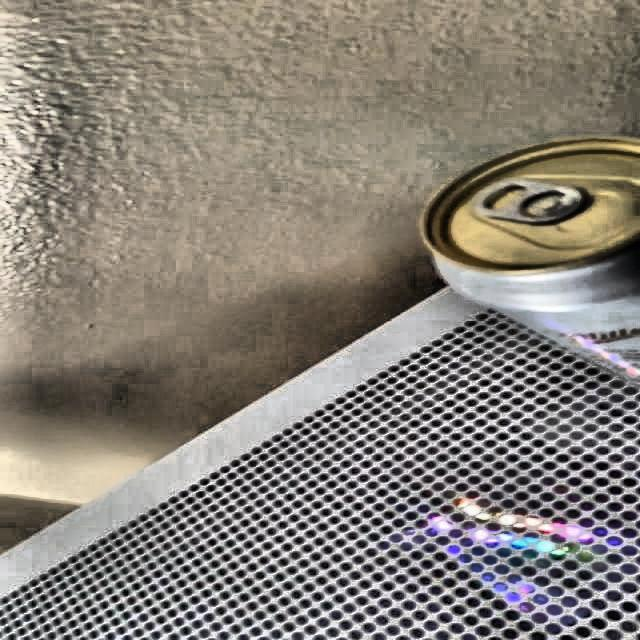can: (419, 129, 640, 407)
